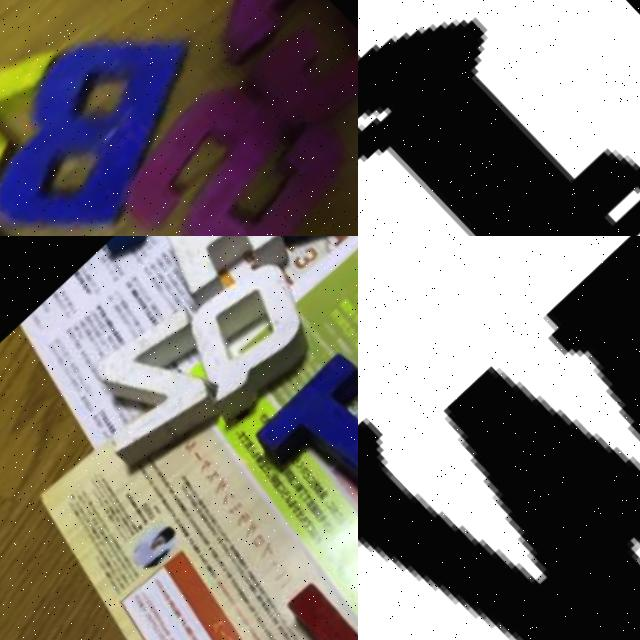B: (358, 15, 640, 236), (0, 0, 235, 236)
H: (134, 236, 308, 314)
Q: (151, 236, 349, 424)
S: (100, 45, 358, 236)
T: (230, 337, 358, 530)
U: (190, 556, 358, 640)
W: (358, 236, 640, 640)
Z: (55, 295, 244, 481)
